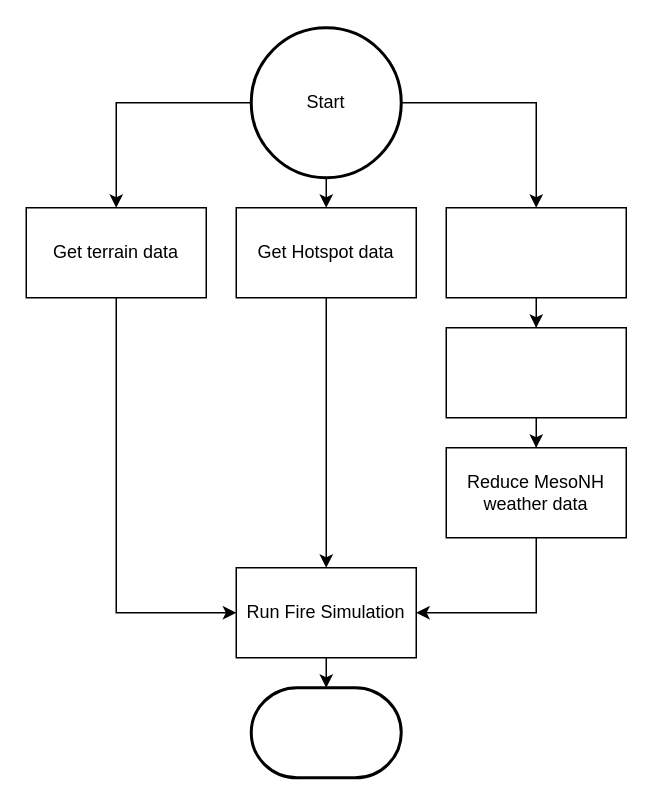
Some shapes in this 653 by 804 pixel diagram are drawn without their labels. Each missing label, with the box of its shape:
Done: (249, 686, 402, 778)
Get weather data: (445, 206, 626, 298)
Run MesoNH forecast: (445, 326, 626, 418)
